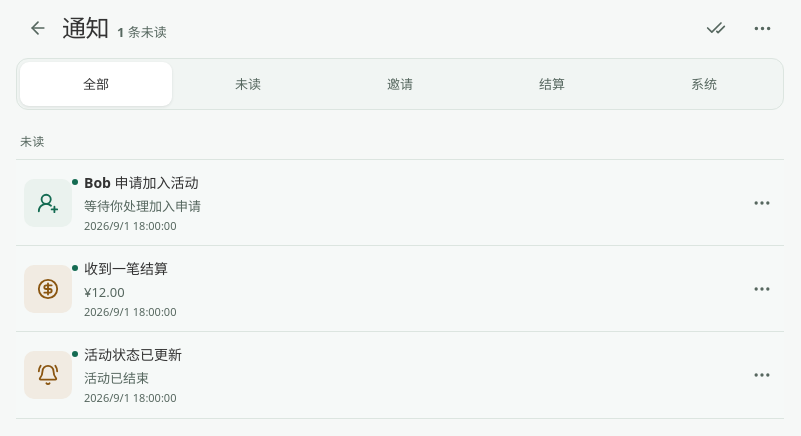
Test: NotificationsPage › 按邀请、结算和系统筛选，并为结算构造受控深链
Click the button "结算" at (552, 84), box [476, 62, 628, 106]
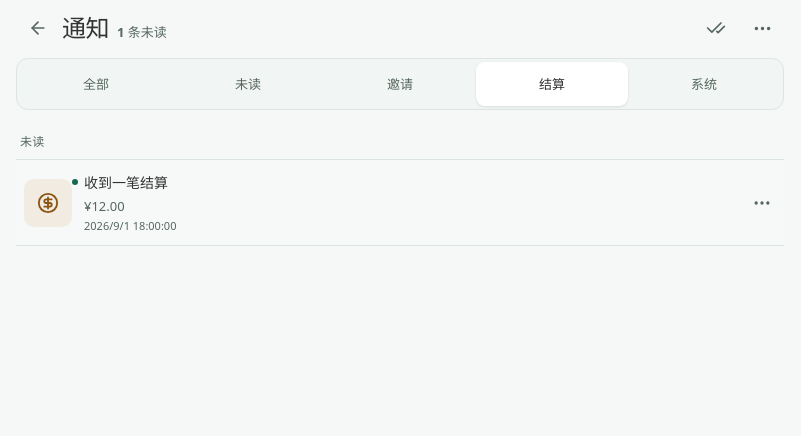
Check: the link "Bob 申请加入活动" is gone
Click the button "系统" at (704, 84), box [628, 62, 780, 106]
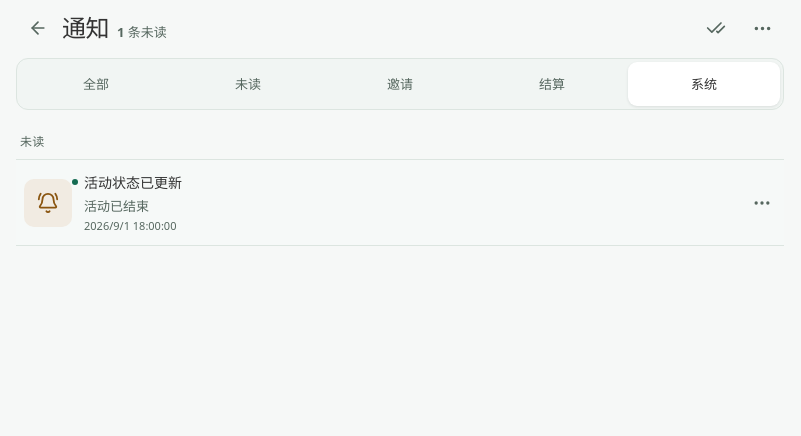
Check: the text "活动状态已更新" is shown, box [84, 173, 182, 192]
